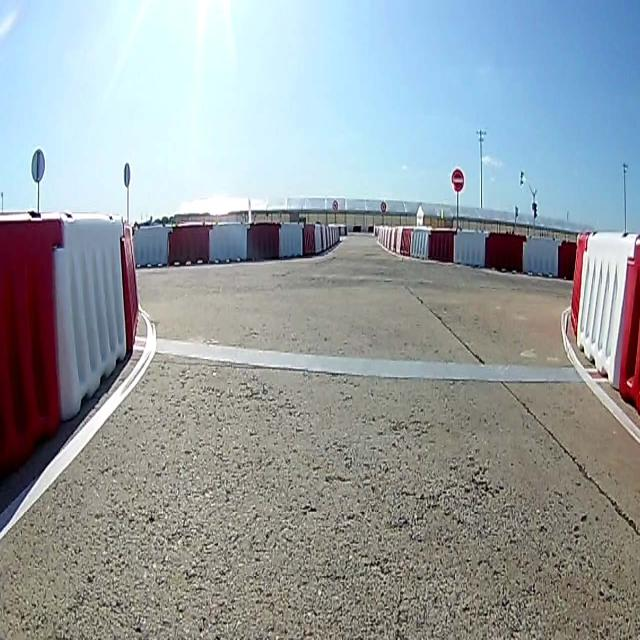girisyok: (451, 164, 467, 196)
